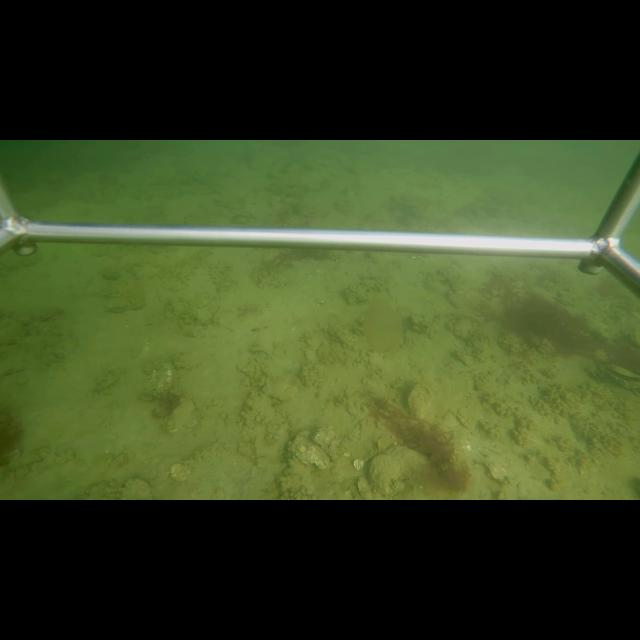Oyster-Closed: (368, 443, 436, 491), (291, 433, 331, 471), (407, 382, 438, 424), (101, 292, 147, 314)
Oyster-Open: (603, 363, 640, 391), (351, 476, 374, 499)
